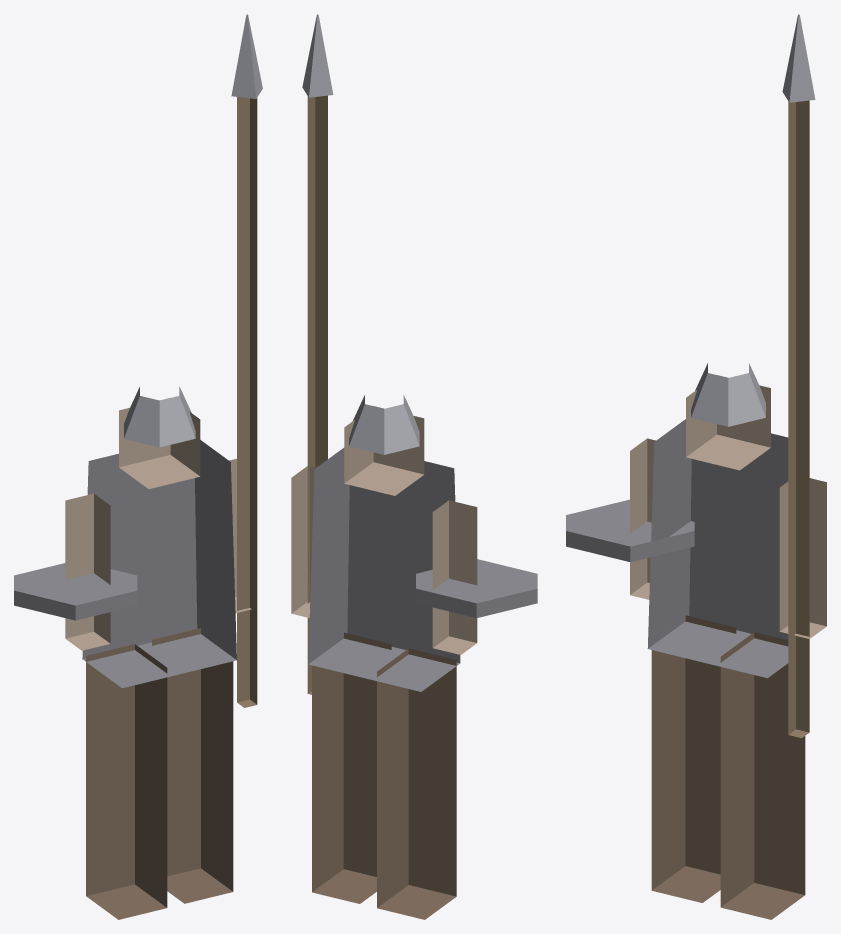
Rendered from spearmen.glb.
3 views of the same model, side by side, from view 1: azimuth 30°, elevation 25°; view 2: azimuth 150°, elevation 25°; view 3: azimuth 330°, elevation 25° (orthographic). The views are drawn at different scales.
Parts seen in each view (by area): view 1: spearmen; view 2: spearmen; view 3: spearmen.
Boxes of the visible parts, left/top/right/bottom form: spearmen: left=14, top=14, right=262, bottom=919; spearmen: left=291, top=14, right=537, bottom=919; spearmen: left=566, top=14, right=826, bottom=919.
Size of the model in its own units: 0.85 by 2.89 by 0.3724.
